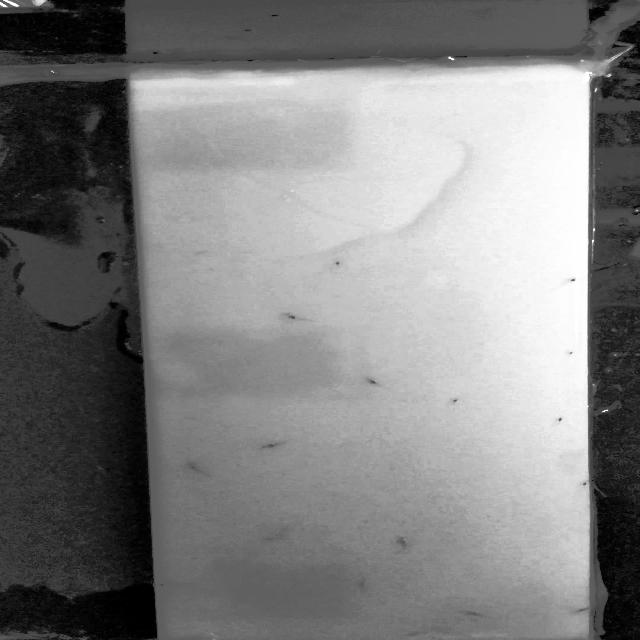shrimp: (257, 436, 298, 452), (150, 578, 197, 589), (186, 461, 214, 479), (466, 610, 503, 623), (396, 535, 418, 553), (258, 529, 286, 541), (285, 312, 313, 324), (564, 274, 584, 288), (563, 347, 582, 360), (570, 481, 592, 492), (366, 378, 385, 390), (571, 604, 592, 614), (356, 577, 369, 590), (554, 416, 572, 425), (406, 630, 423, 638), (335, 259, 351, 267), (451, 398, 468, 403)
